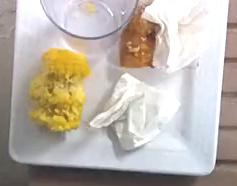corn: (29, 47, 89, 130)
